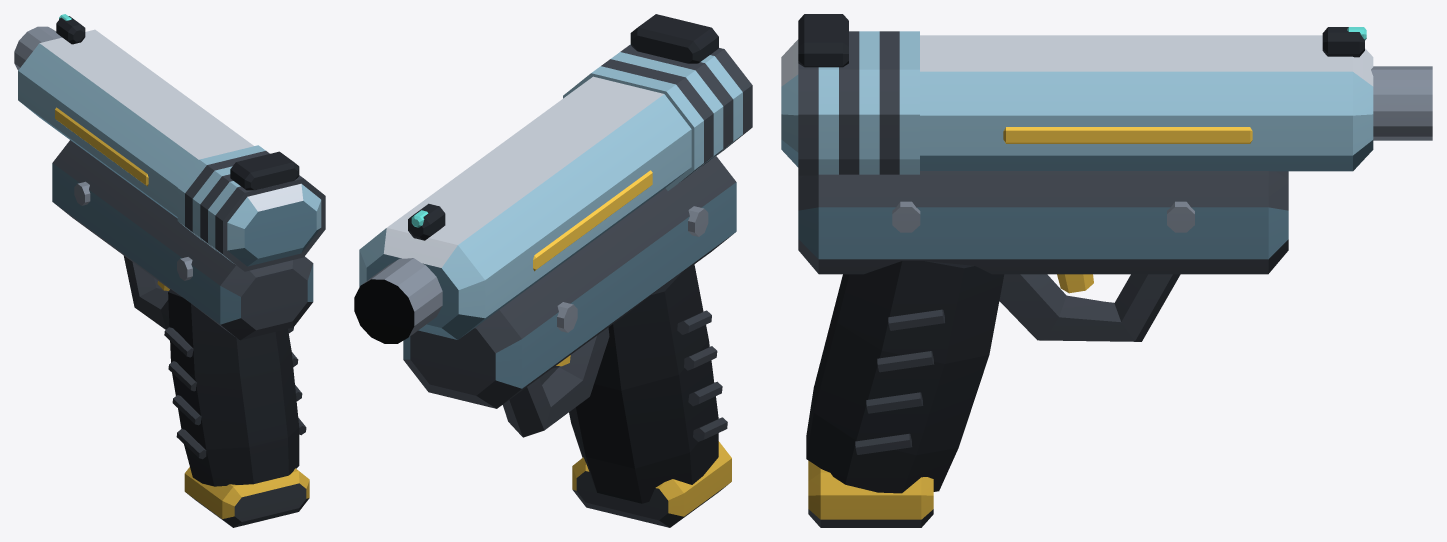
The model's file is Pistol.fbx.
3 renders of one model, left to right at view 1: azimuth 30°, elevation 25°; view 2: azimuth 150°, elevation 25°; view 3: azimuth 270°, elevation 25°, orthographic. The views are drawn at different scales.
Parts seen in each view (by area): view 1: Slide, Frame, Grip, Serrations, GripHeel, Sights, GripRibs, Guard, Stripe, Muzzle, Bolts; view 2: Slide, Frame, Grip, Serrations, Muzzle, Guard, GripHeel, Sights, Stripe, GripRibs, Bolts; view 3: Slide, Frame, Grip, Serrations, Guard, GripHeel, Muzzle, Stripe, Sights, GripRibs, Bolts.
Part boxes in pixels (<box>): Slide: <box>18,29,321,266</box>; Frame: <box>52,140,313,340</box>; Grip: <box>168,289,299,486</box>; Serrations: <box>177,145,325,271</box>; GripHeel: <box>184,467,309,527</box>; Sights: <box>56,16,299,190</box>; GripRibs: <box>164,327,306,459</box>; Guard: <box>124,256,169,329</box>; Stripe: <box>55,107,148,186</box>; Muzzle: <box>14,26,61,70</box>; Bolts: <box>74,181,192,280</box>; Slide: <box>359,76,691,339</box>; Frame: <box>403,156,736,408</box>; Grip: <box>569,263,718,503</box>; Serrations: <box>563,44,752,190</box>; Muzzle: <box>354,258,442,343</box>; Guard: <box>503,327,609,437</box>; GripHeel: <box>572,441,731,527</box>; Sights: <box>408,14,718,240</box>; Stripe: <box>533,170,652,271</box>; GripRibs: <box>677,310,727,441</box>; Bolts: <box>557,206,708,332</box>; Slide: <box>781,35,1373,171</box>; Frame: <box>798,171,1288,274</box>; Grip: <box>806,261,1004,493</box>; Serrations: <box>798,31,919,175</box>; Guard: <box>999,274,1180,341</box>; GripHeel: <box>808,460,933,527</box>; Muzzle: <box>1371,66,1432,140</box>; Stripe: <box>1003,127,1252,143</box>; Sights: <box>798,14,1364,67</box>; GripRibs: <box>855,309,944,454</box>; Bolts: <box>892,201,1194,232</box>.
Size of the model in its own units: 0.1018 by 0.312 by 0.385.
Materials: 1 (1 with a texture image).
